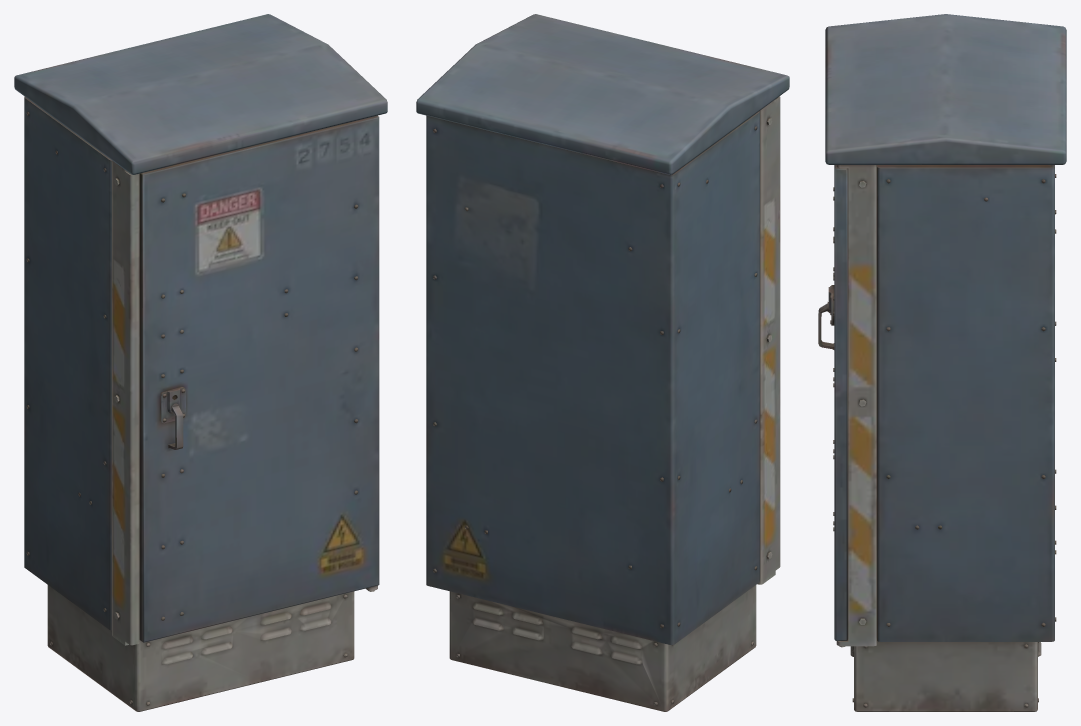
The model's file is utility_box_01.glb.
3 views of the same model, side by side, from view 1: azimuth 30°, elevation 25°; view 2: azimuth 150°, elevation 25°; view 3: azimuth 270°, elevation 25° (orthographic).
Parts seen in each view (by area): view 1: utility_box_01_box; view 2: utility_box_01_box; view 3: utility_box_01_box.
Part boxes in pixels (<box>): utility_box_01_box: <box>14,14,387,711</box>; utility_box_01_box: <box>416,14,789,711</box>; utility_box_01_box: <box>818,14,1066,711</box>.
Bounding box in the file's own units: 0.52 × 1.12 × 0.4319.
Materials: 1 (1 with a texture image).
